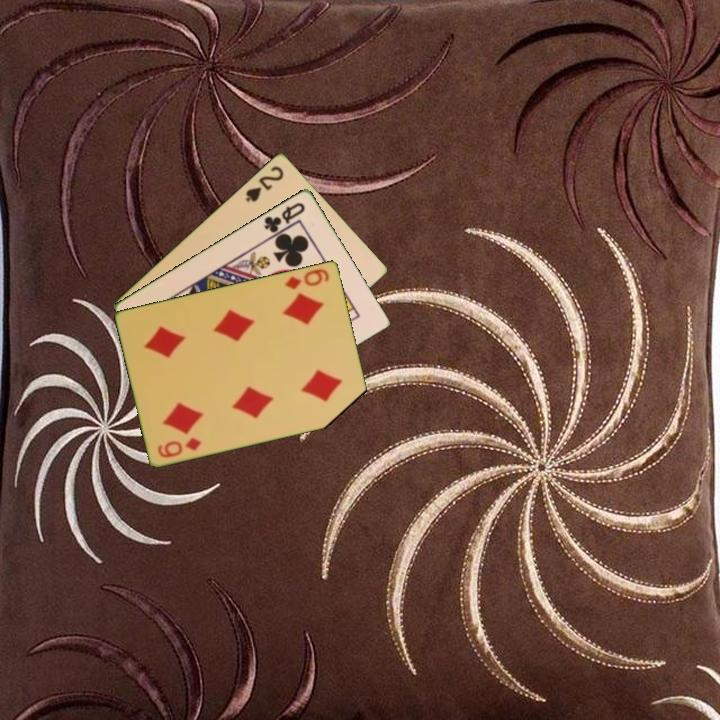2s: (242, 162, 287, 204)
6d: (282, 265, 332, 292), (154, 434, 205, 460)
Qc: (260, 198, 308, 236)
